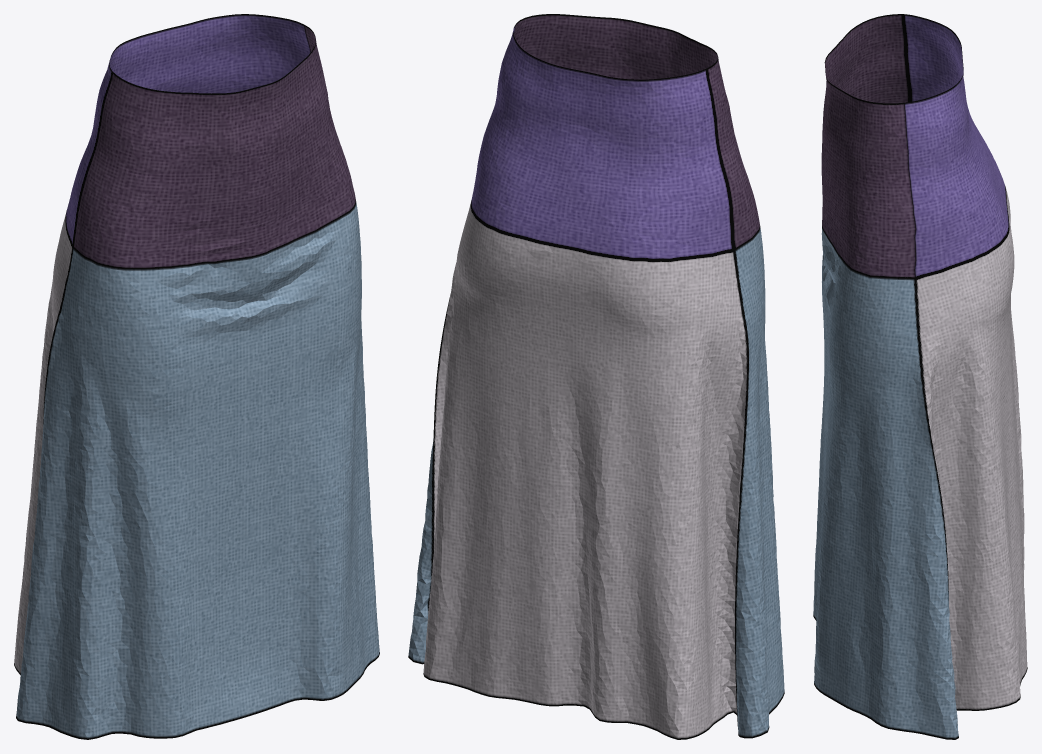
The model's file is generated_rand_2E2EL4UZUS_sim.obj.
3 views of the same model, side by side, from view 1: azimuth 30°, elevation 25°; view 2: azimuth 150°, elevation 25°; view 3: azimuth 270°, elevation 25° (orthographic). The views are drawn at different scales.
Size of the model in its own units: 43.35 by 76.37 by 24.43.
Materials: 1 (1 with a texture image).
